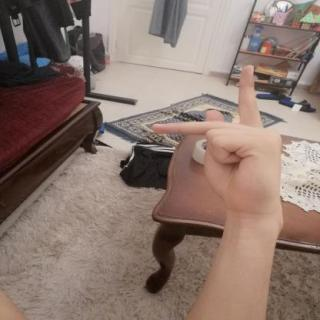DHAA: (139, 57, 294, 224)
